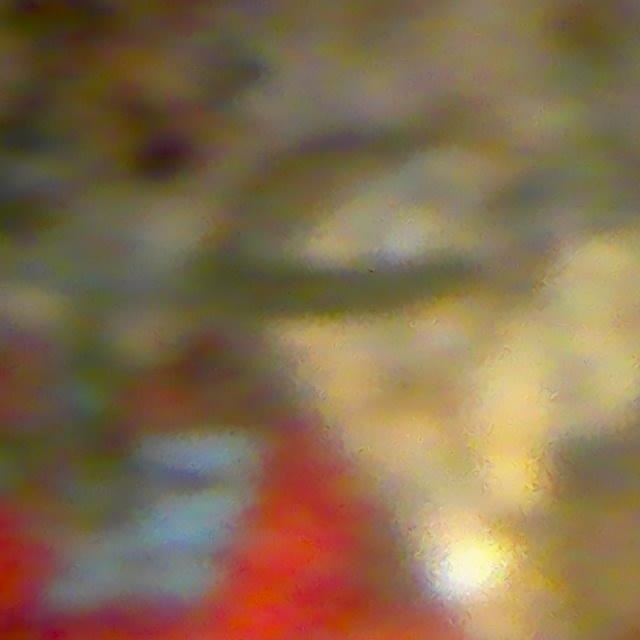SeaGrape: (59, 449, 136, 527), (52, 362, 124, 437)
